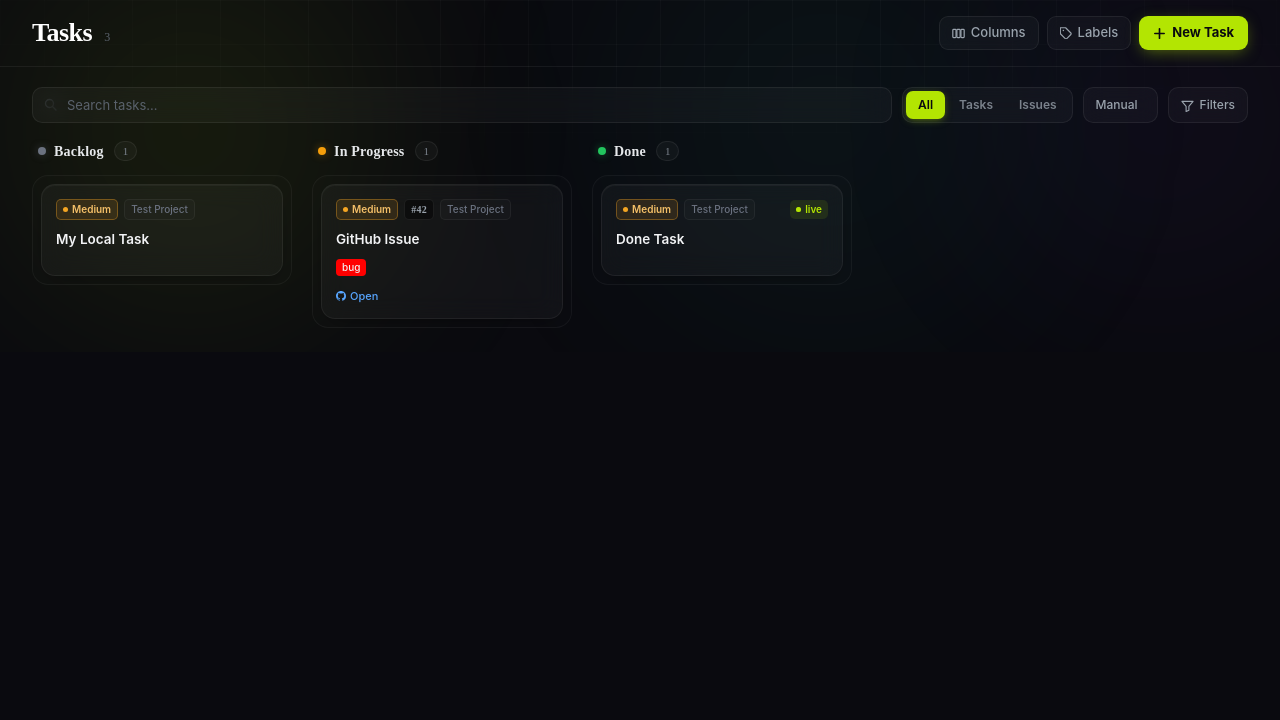
KanbanBoard › opens the columns manager modal
Check: the heading "Backlog" is shown, box top-left (54, 140), bottom-right (104, 162)
Click the button "Columns". click: (989, 33)
box: top-left (939, 16), bottom-right (1039, 50)
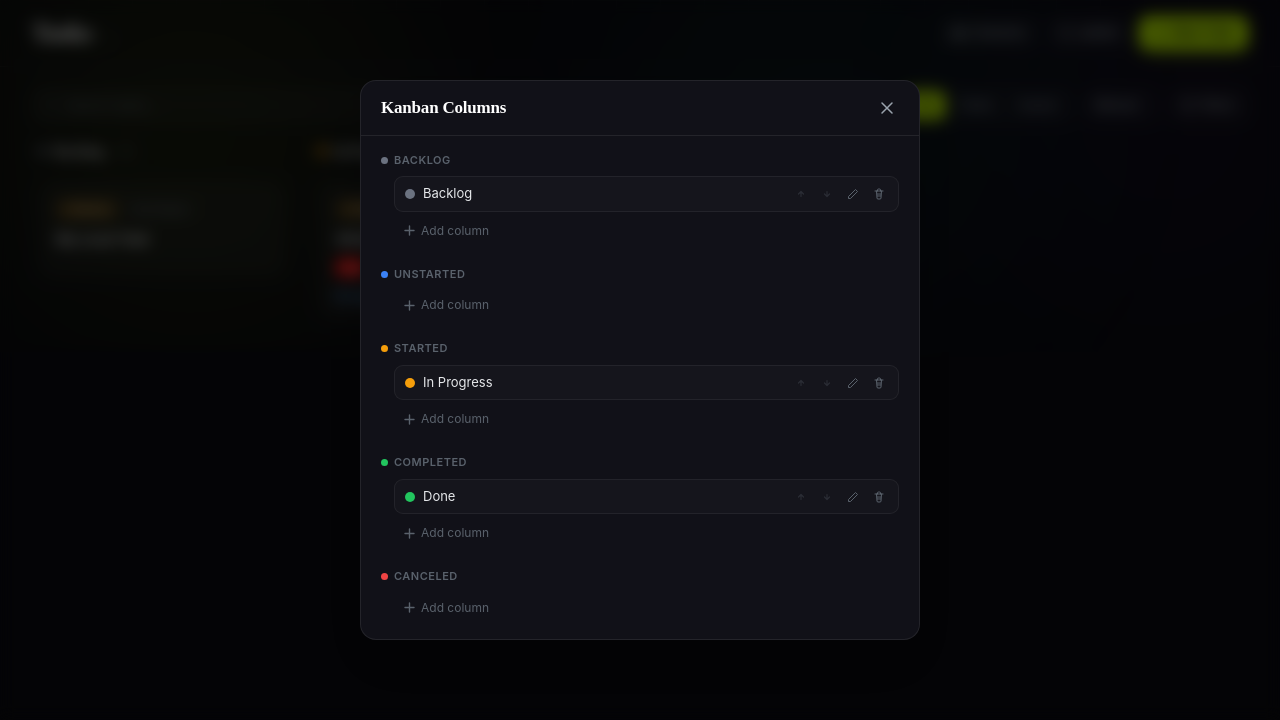
Check: the heading "Kanban Columns" is shown, box top-left (381, 95), bottom-right (506, 121)
